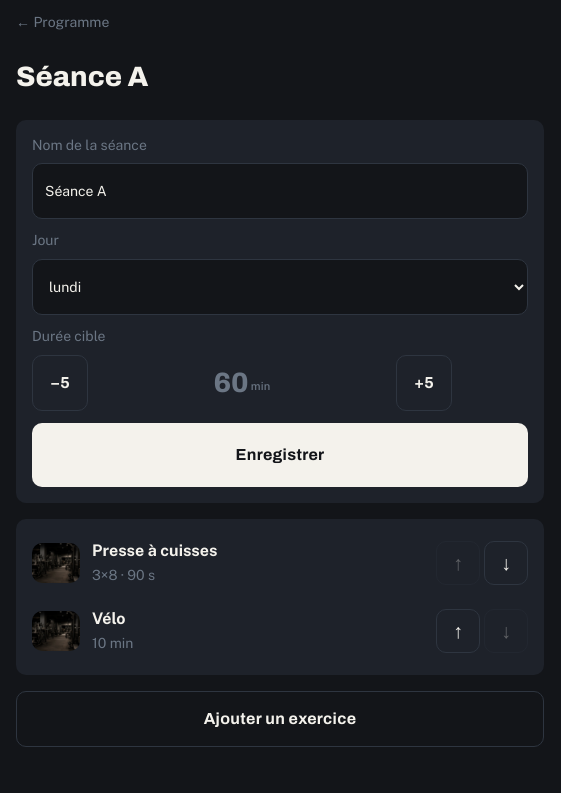
Scenario: édition de séance › affiche l'erreur française renvoyée pendant l'enregistrement
The width and height of the screenshot is (561, 793).
Expected: the field showing "Séance A" is shown, left=32, top=163, right=528, bottom=219
Click the button "Enregistrer".
click(280, 455)  # box left=32, top=423, right=528, bottom=487
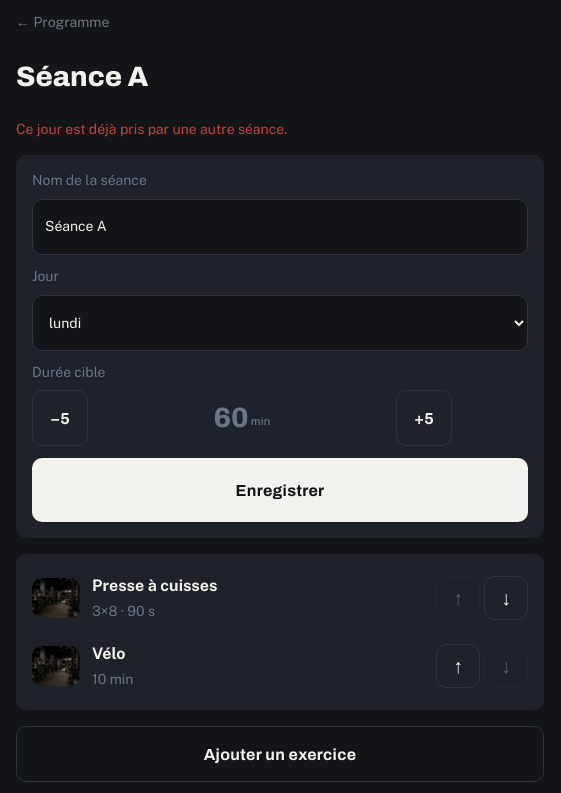
Expected: the text "Ce jour est déjà pris par une autre séance." is shown, left=16, top=121, right=287, bottom=137
